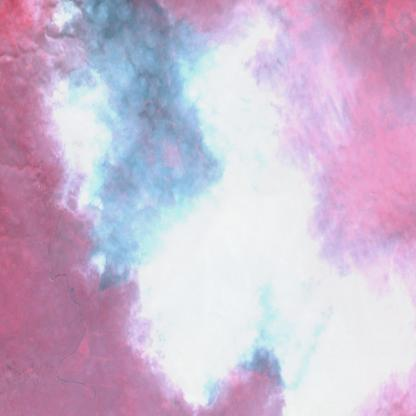fire: (132, 148, 344, 416), (183, 0, 303, 142)
